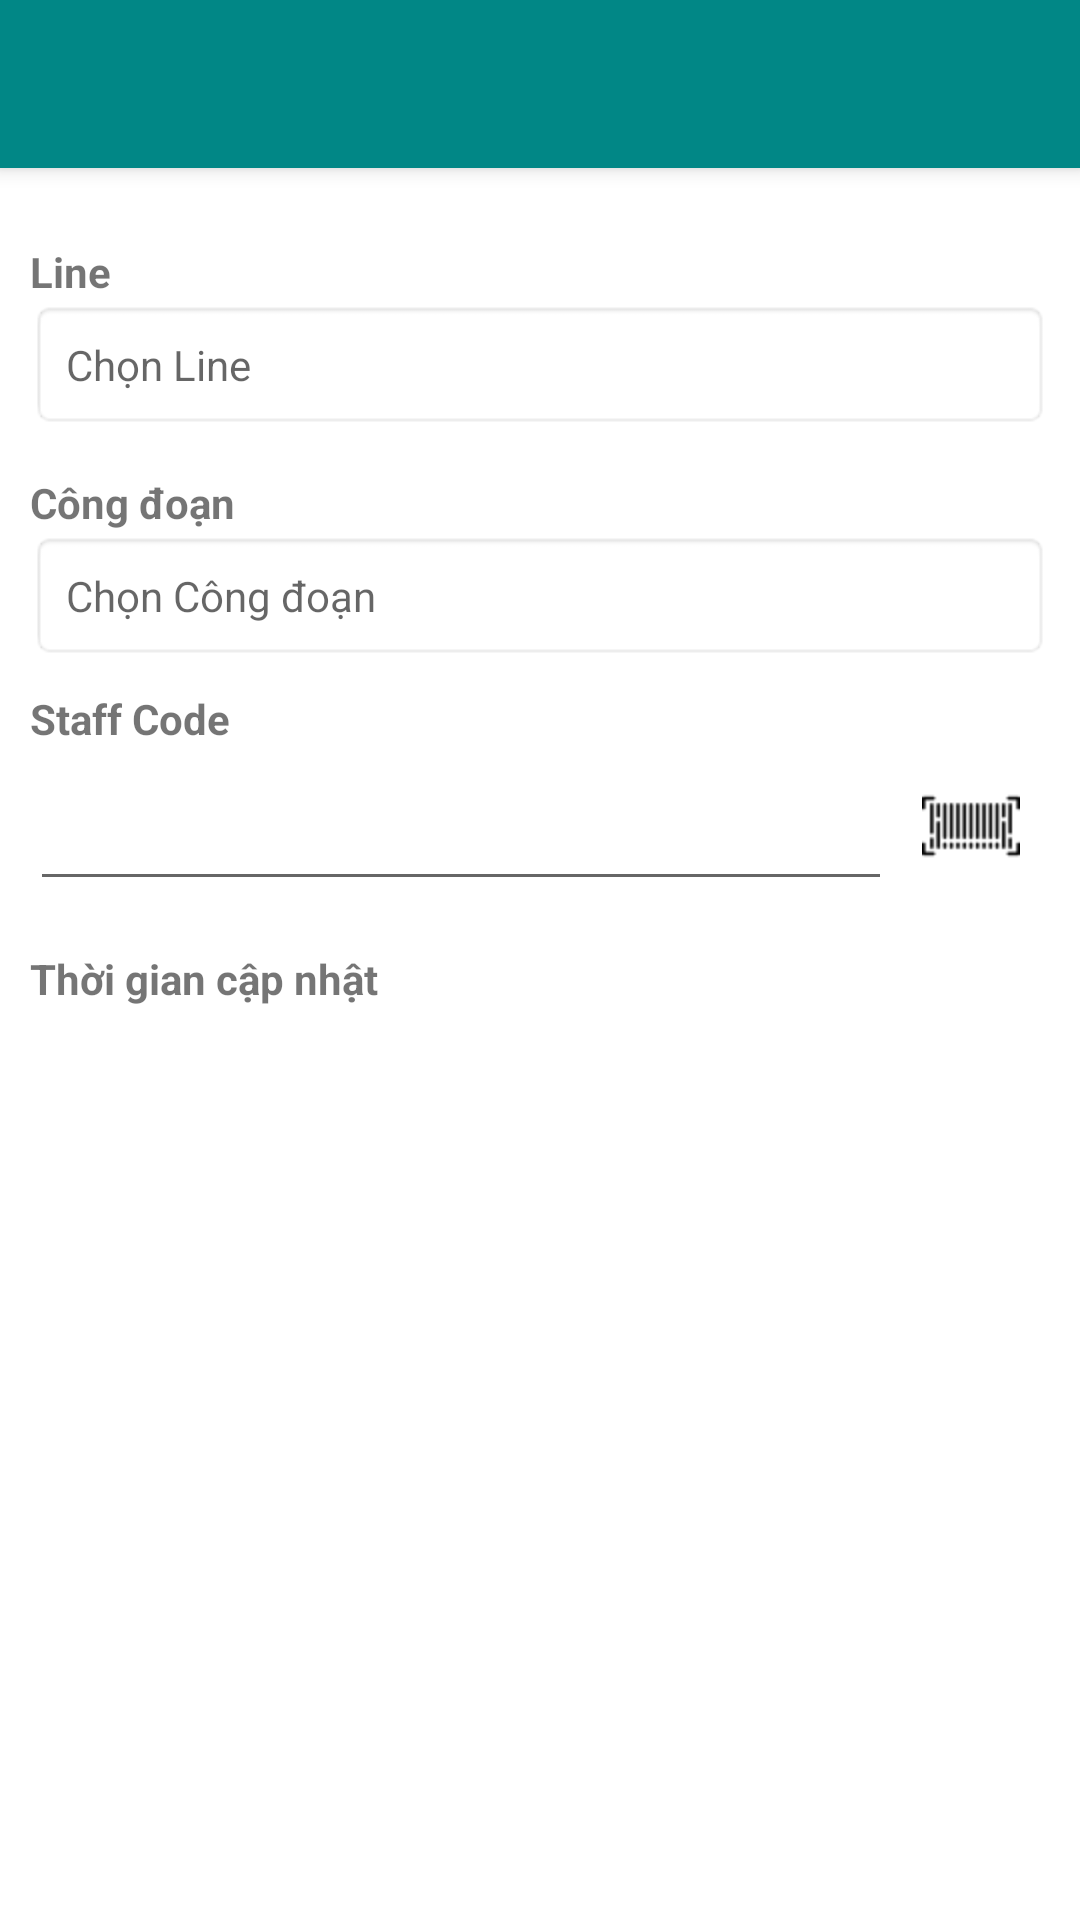

Screen size 1080*1920. Icon name, then its center in pixels as (x,y):
barcode: (971,826)
